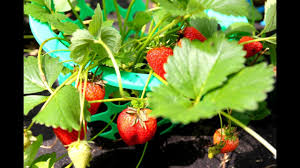ripe: (113, 104, 157, 147), (145, 40, 181, 85), (74, 76, 107, 117), (178, 19, 220, 51), (51, 113, 86, 147), (237, 32, 262, 62)
unripe: (211, 125, 239, 155), (63, 139, 94, 165)
